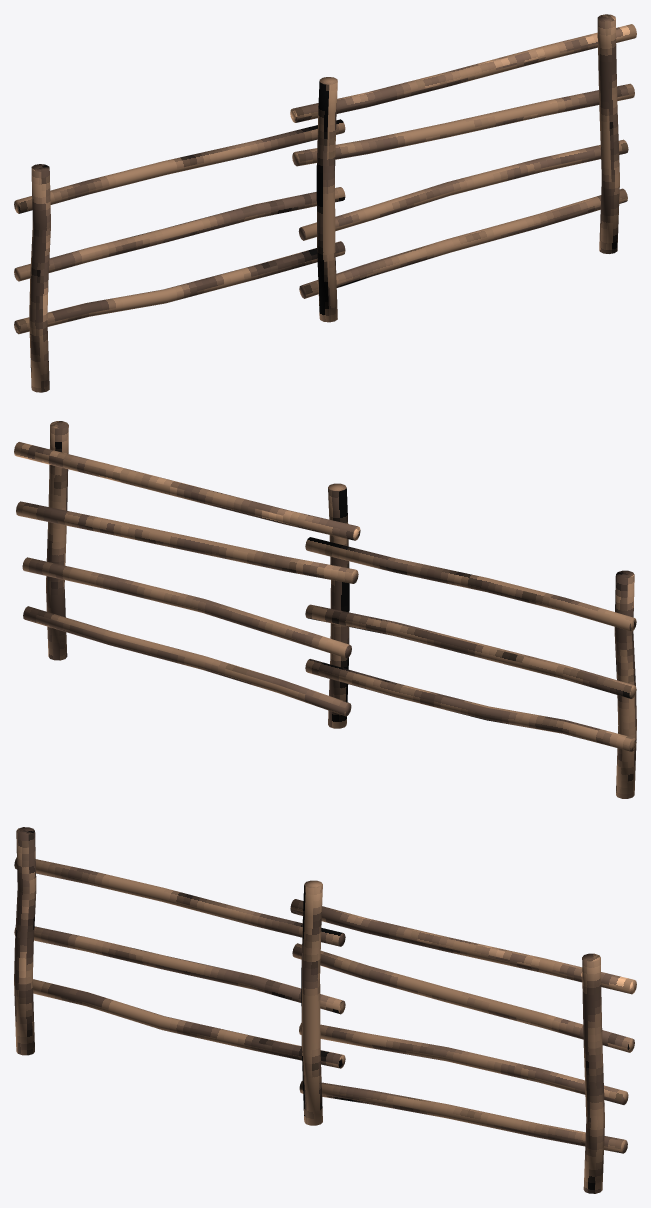
File: fence.fbx
3 renders of one model, top to bottom at view 1: azimuth 30°, elevation 25°; view 2: azimuth 150°, elevation 25°; view 3: azimuth 330°, elevation 25°, orthographic.
Visible parts, largest first — view 1: fence; view 2: fence; view 3: fence.
Boxes of the visible parts, bbox=[...] form: fence: bbox=[14, 14, 636, 392]; fence: bbox=[14, 421, 636, 798]; fence: bbox=[14, 827, 636, 1193].
Size of the model in its own units: 5175 by 1909 by 233.
